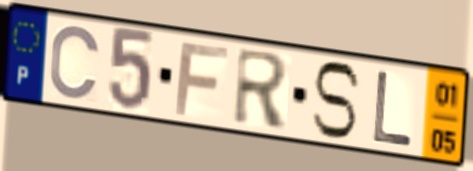5: (106, 26, 155, 116)
C: (47, 23, 104, 102)
F: (172, 40, 232, 119)
L: (370, 67, 416, 150)
R: (231, 45, 291, 132)
S: (308, 58, 363, 142)
